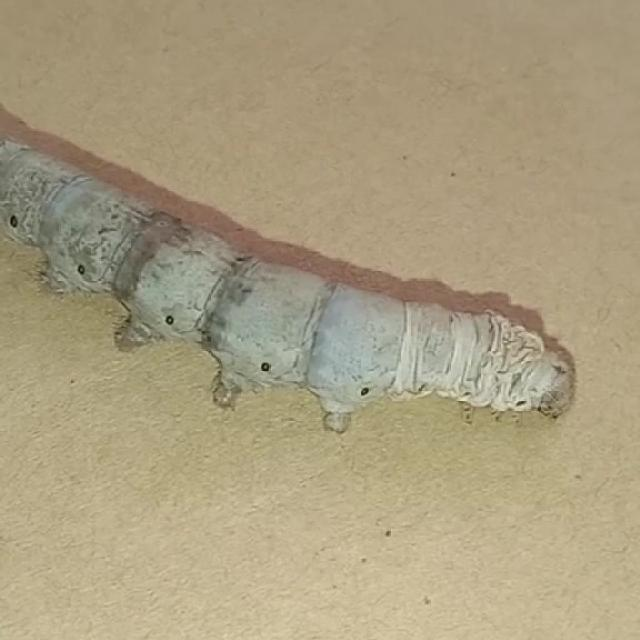Grasserie: (5, 81, 580, 472)
